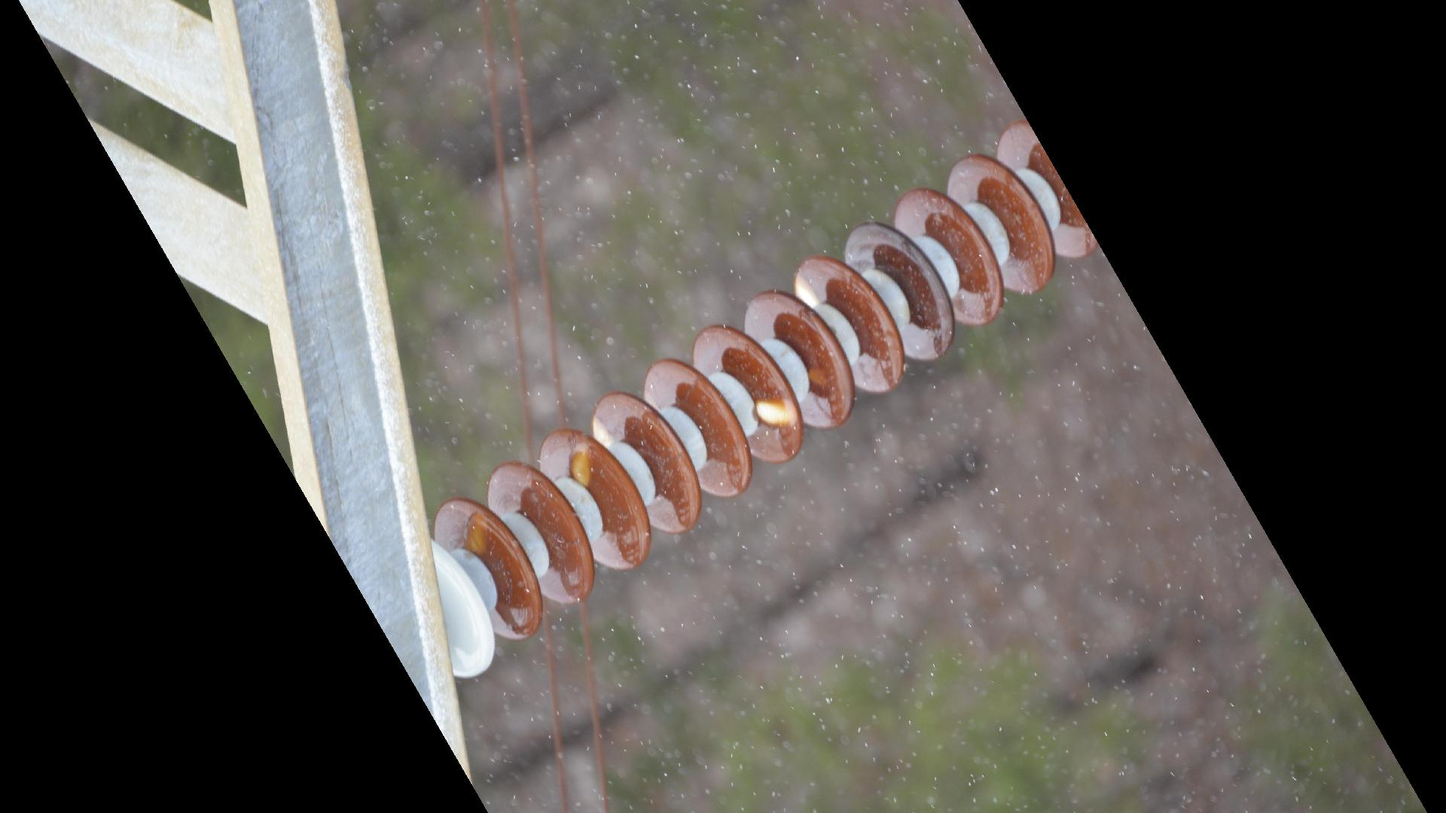insulator: (432, 114, 1108, 684)
insulator_flashover: (752, 396, 800, 429), (462, 509, 493, 556), (567, 438, 596, 488), (791, 272, 822, 310), (589, 414, 617, 447)
